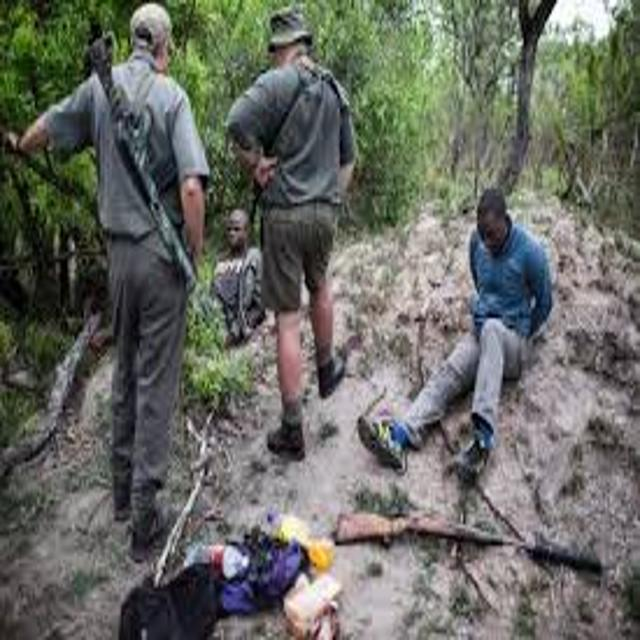poacher: (8, 2, 251, 578), (203, 4, 383, 484), (341, 166, 566, 496), (175, 194, 297, 376)
